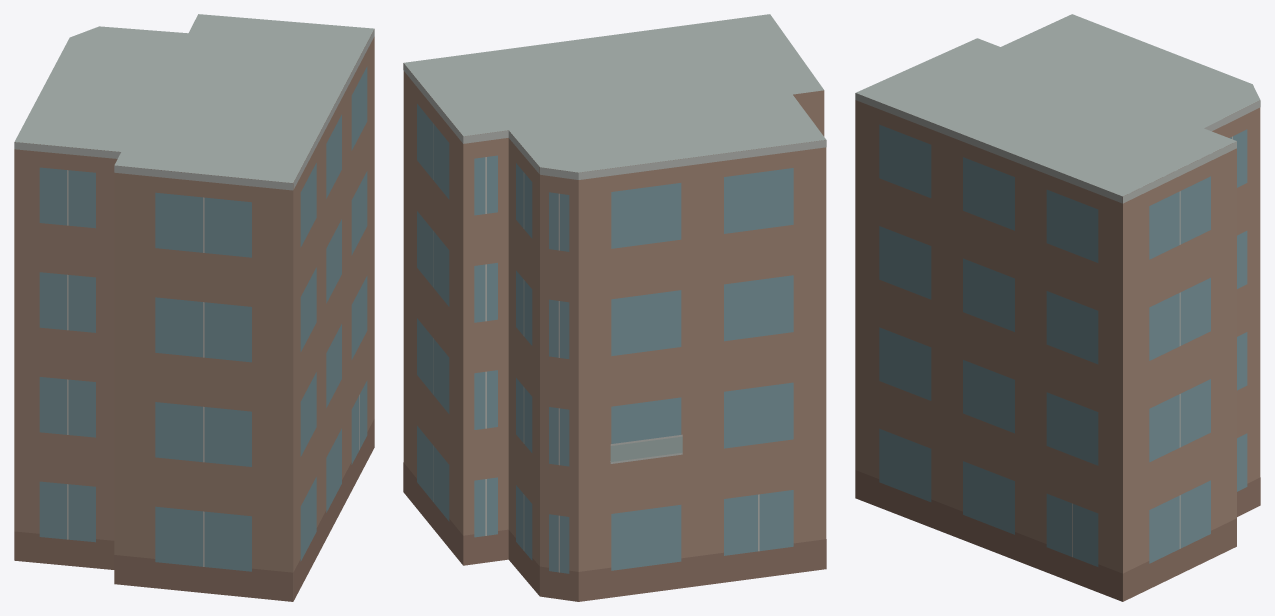
Rendered from survey-upis-32820991.glb.
The picture shows the model from 3 angles, left to right: view 1: azimuth 30°, elevation 25°; view 2: azimuth 150°, elevation 25°; view 3: azimuth 270°, elevation 25°; orthographic projection. The views are drawn at different scales.
Parts seen in each view (by area): view 1: survey-upis-32820991.tmp; view 2: survey-upis-32820991.tmp; view 3: survey-upis-32820991.tmp.
Part boxes in pixels (left/top/right/bottom): survey-upis-32820991.tmp: left=14, top=14, right=374, bottom=601; survey-upis-32820991.tmp: left=403, top=14, right=826, bottom=601; survey-upis-32820991.tmp: left=855, top=14, right=1260, bottom=601.
Size of the model in its own units: 13.43 by 13.9 by 12.6.
